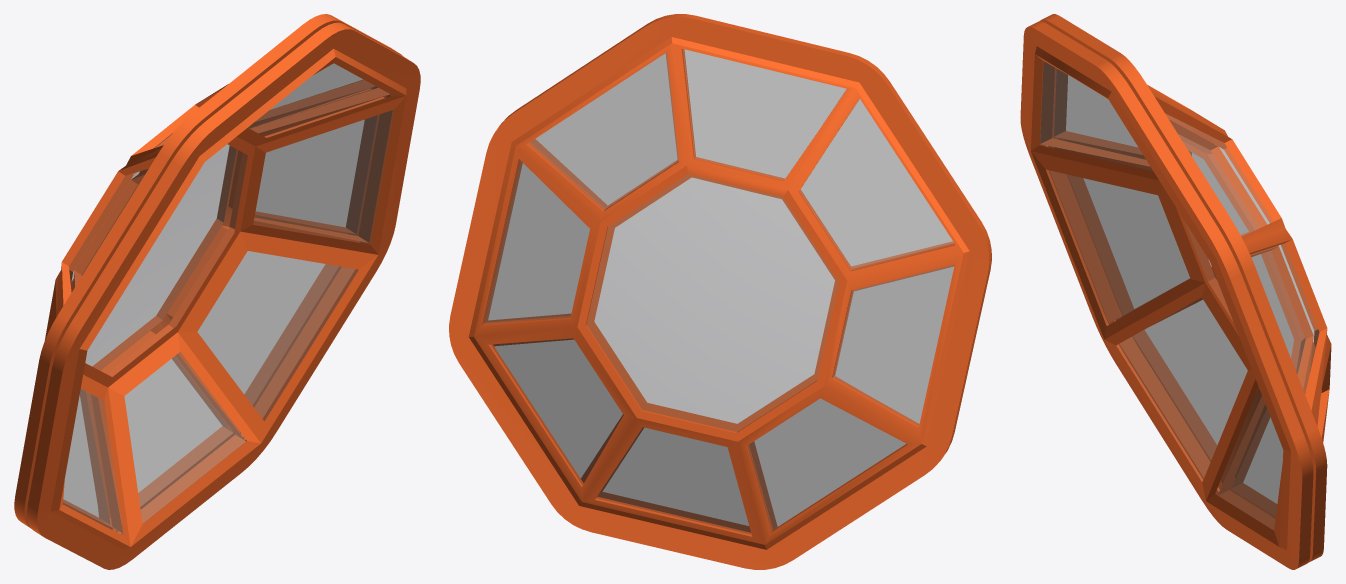
Rendered from window.fbx.
3 views of the same model, side by side, from view 1: azimuth 30°, elevation 25°; view 2: azimuth 150°, elevation 25°; view 3: azimuth 270°, elevation 25° (orthographic). The views are drawn at different scales.
Parts seen in each view (by area): view 1: pSphere10, pSphere5; view 2: pSphere5, pSphere10; view 3: pSphere10, pSphere5.
Boxes of the visible parts, x1,y1,x2,y2 form: pSphere10: [27, 22, 420, 569]; pSphere5: [14, 14, 402, 534]; pSphere5: [449, 15, 990, 569]; pSphere10: [483, 14, 991, 534]; pSphere10: [1020, 21, 1315, 569]; pSphere5: [1040, 14, 1331, 562].
Size of the model in its own units: 1.79 by 1.96 by 1.03.
